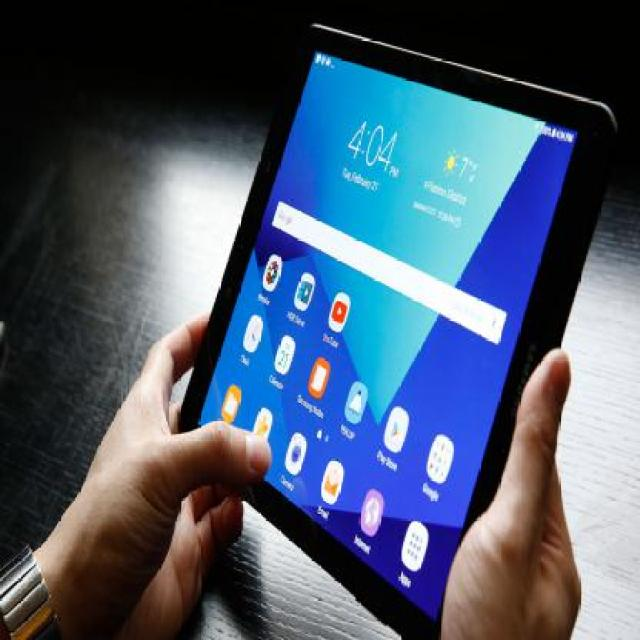tablet: (203, 0, 586, 612)
